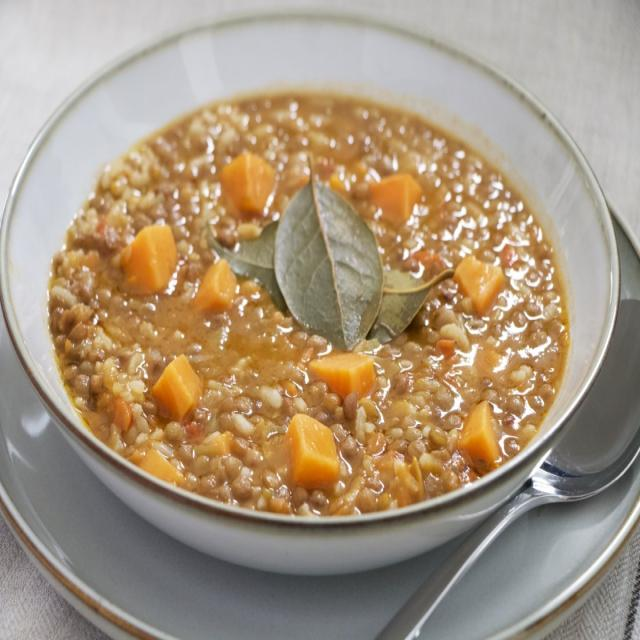lentejas: (42, 70, 576, 532)
